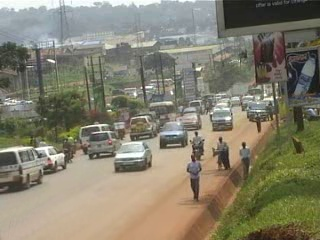Car: (112, 140, 155, 175), (85, 127, 123, 160), (33, 143, 70, 173), (159, 118, 188, 152), (126, 114, 159, 141), (176, 112, 204, 131), (209, 101, 234, 120), (179, 105, 199, 118), (230, 96, 244, 107)
Motorcycle: (187, 130, 206, 160), (110, 115, 128, 140), (59, 136, 74, 165), (67, 133, 78, 157)
